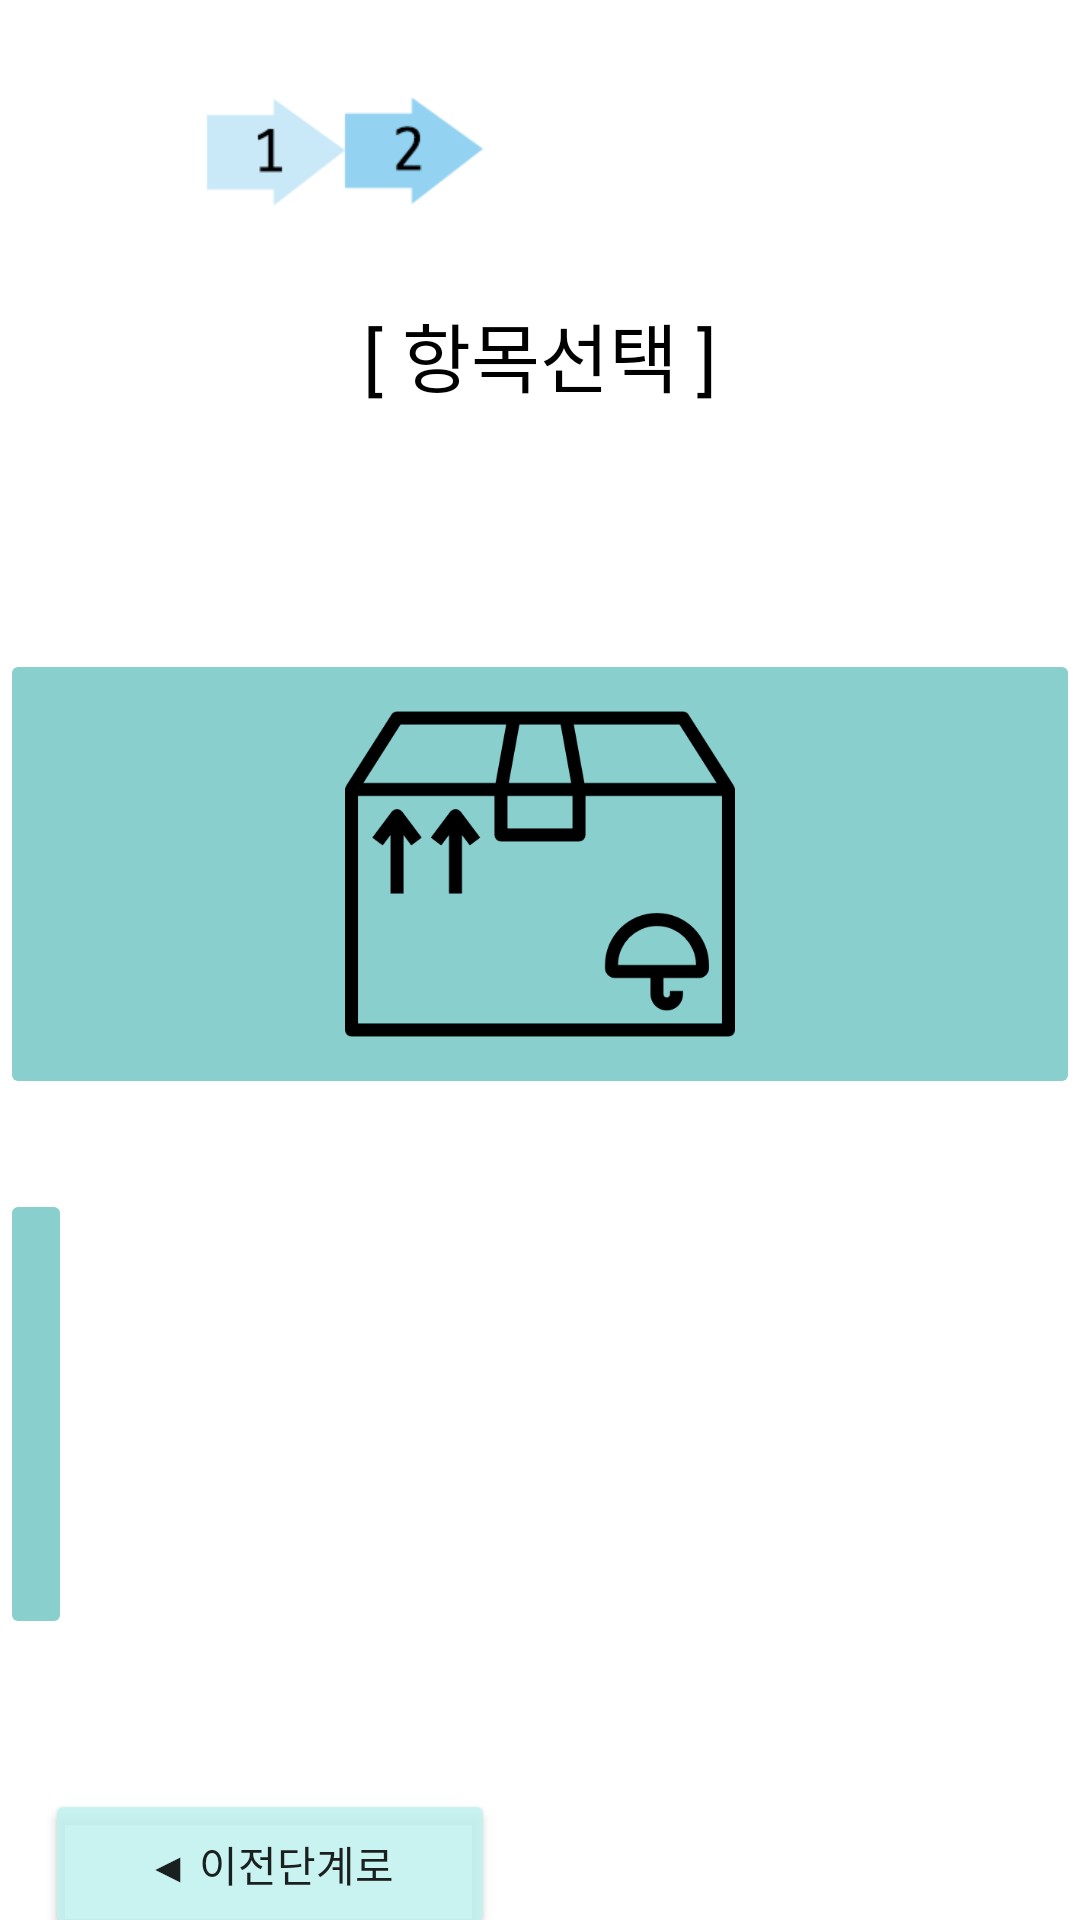

Named icons in this screenshot (1080×1920) and their centers, point (x, y):
step: point (345, 151)
